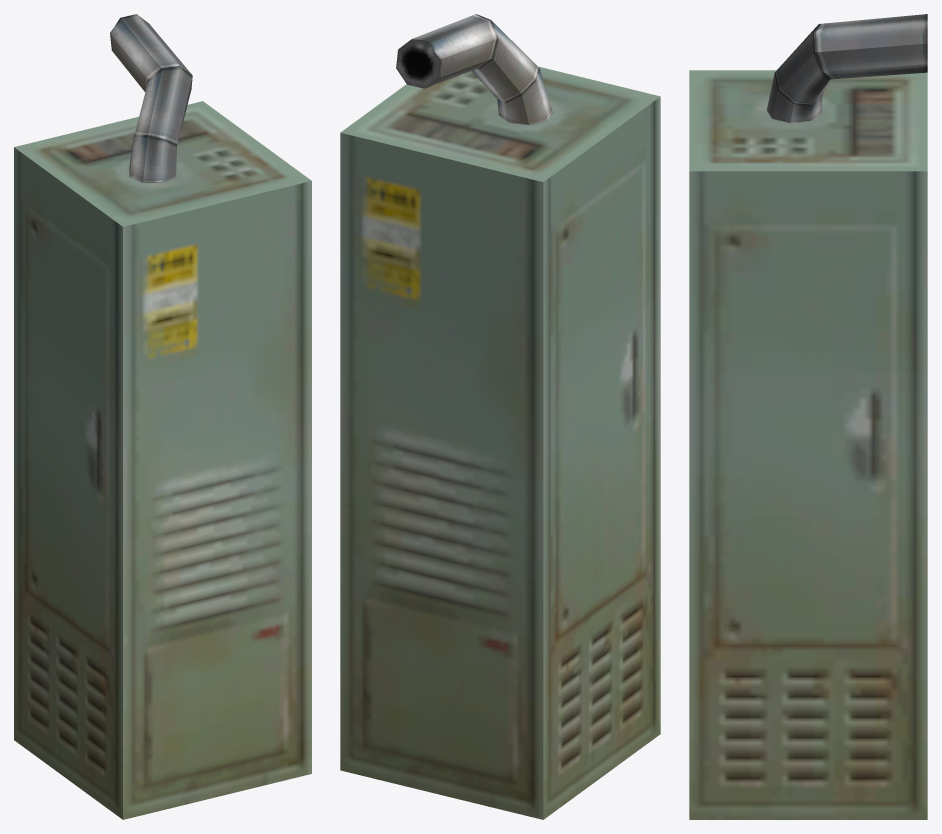
Rendered from furnace.fbx.
The picture shows the model from 3 angles, left to right: view 1: azimuth 30°, elevation 25°; view 2: azimuth 150°, elevation 25°; view 3: azimuth 270°, elevation 25°; orthographic projection. The views are drawn at different scales.
Visible parts, largest first — view 1: mesh_0; view 2: mesh_0; view 3: mesh_0.
Part boxes in pixels (bbox=[...]): mesh_0: bbox=[14, 14, 311, 819]; mesh_0: bbox=[340, 14, 660, 819]; mesh_0: bbox=[689, 14, 927, 819].
Size of the model in its own units: 60 by 211 by 60.
Materials: 1 (1 with a texture image).
